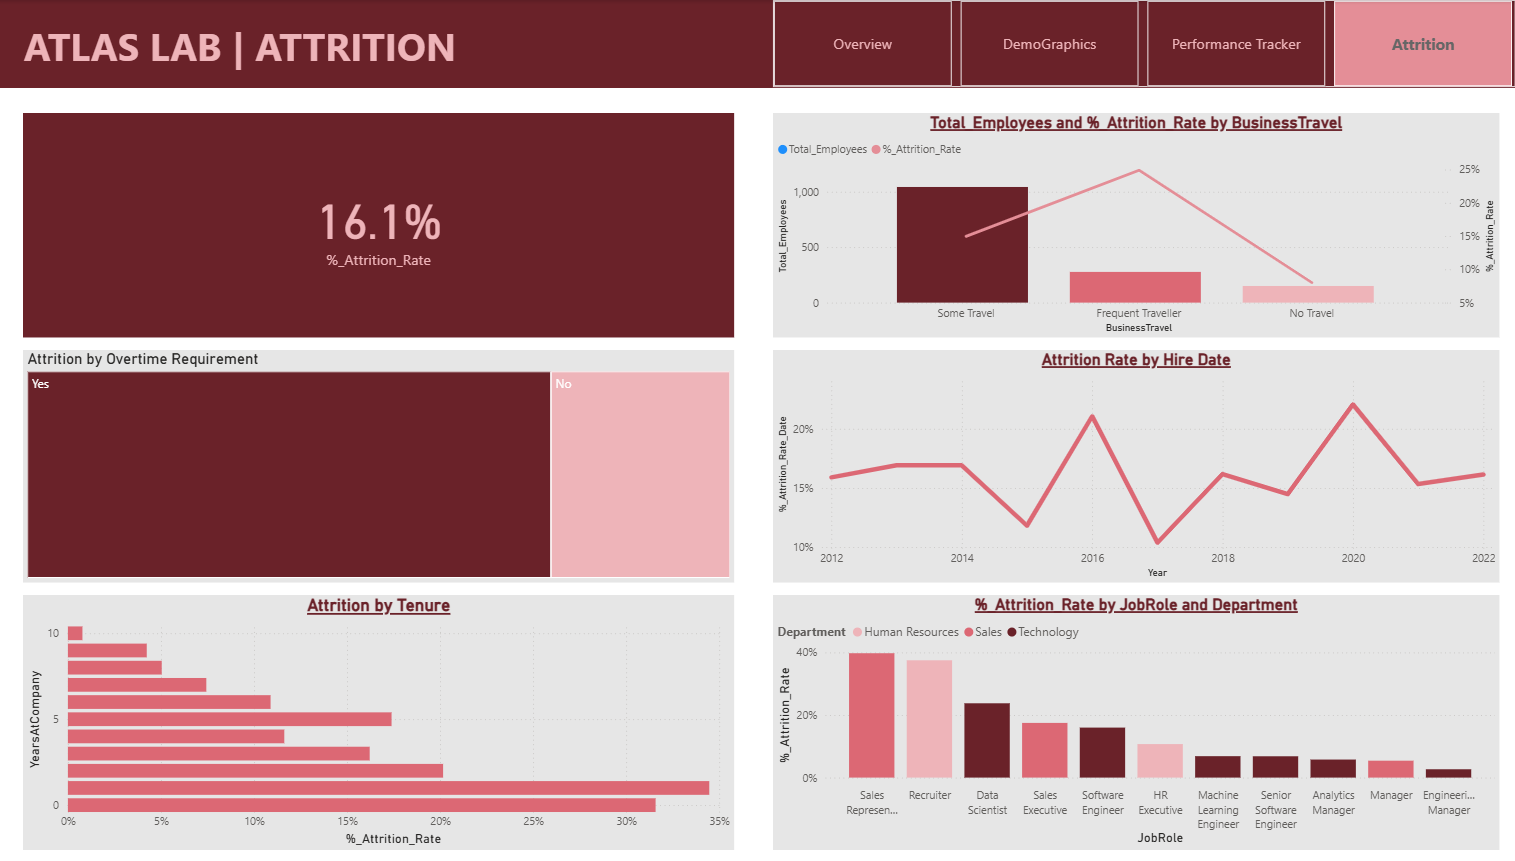

The page's visual inventory and layout, read from the dashboard file:
{"tool":"powerbi","page":{"name":"Attrition","canvas":[1690,960],"ordinal":3},"visuals":[{"type":"card","fields":{"Values":["_Measures.%_Attrition_Rate"]},"box":[27.5,125.7,792.4,250.2],"z":0},{"type":"columnChart","fields":{"Category":["Dim_Employee.JobRole"],"Series":["Dim_Employee.Department"],"Y":["_Measures.%_Attrition_Rate"]},"box":[863,663.1,809.2,283.7],"z":1000},{"type":"lineChart","title":"Attrition Rate by Hire Date","fields":{"Category":["DimDate.Date.Variation.Date Hierarchy.Year","DimDate.Date.Variation.Date Hierarchy.Quarter","DimDate.Date.Variation.Date Hierarchy.Month","DimDate.Date.Variation.Date Hierarchy.Day"],"Y":["_Measures.%_Attrition_Rate_Date"]},"box":[863,390.2,809.2,258.6],"z":2000},{"type":"lineStackedColumnComboChart","fields":{"Category":["Dim_Employee.BusinessTravel"],"Y":["_Measures.Total_Employees"],"Y2":["_Measures.%_Attrition_Rate"]},"box":[863,125.7,809.2,250.2],"z":3000},{"type":"treemap","title":"Attrition by Overtime Requirement","fields":{"Group":["Dim_Employee.OverTime"],"Values":["_Measures.%_Attrition_Rate"]},"box":[27.5,390.2,792.4,258.6],"z":4000},{"type":"barChart","title":"Attrition by Tenure","fields":{"Y":["_Measures.%_Attrition_Rate"],"Category":["Dim_Employee.YearsAtCompany"]},"box":[27.5,663.1,792.4,283.7],"z":5000},{"type":"textbox","box":[0,0,1690,97.8],"z":5001},{"type":"pageNavigator","box":[863.3,0,826.7,97.4],"z":5002}]}

Visuals, with their boxes in screenshot pixels (x1, y1, x2, y2), scaled from the page's 1690x960 canvas onto the 1515x861 screenshot:
card - _Measures.%_Attrition_Rate: 25/113/735/337
columnChart - Dim_Employee.JobRole x Dim_Employee.Department: 774/595/1499/849
"Attrition Rate by Hire Date" lineChart: 774/350/1499/582
lineStackedColumnComboChart - Dim_Employee.BusinessTravel x _Measures.Total_Employees: 774/113/1499/337
"Attrition by Overtime Requirement" treemap: 25/350/735/582
"Attrition by Tenure" barChart: 25/595/735/849
textbox: 0/0/1514/88
pageNavigator: 774/0/1514/87
